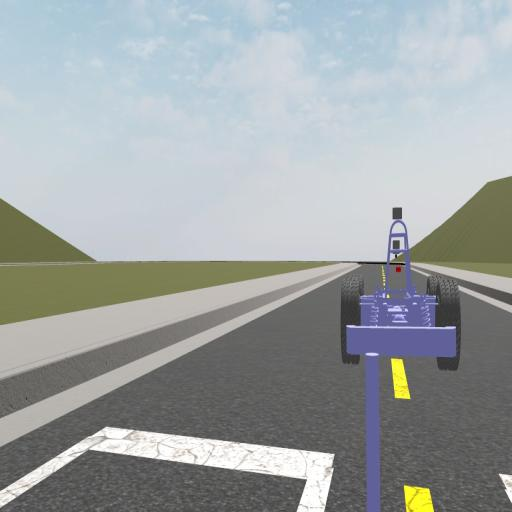ERP-42: (340, 207, 460, 372)
